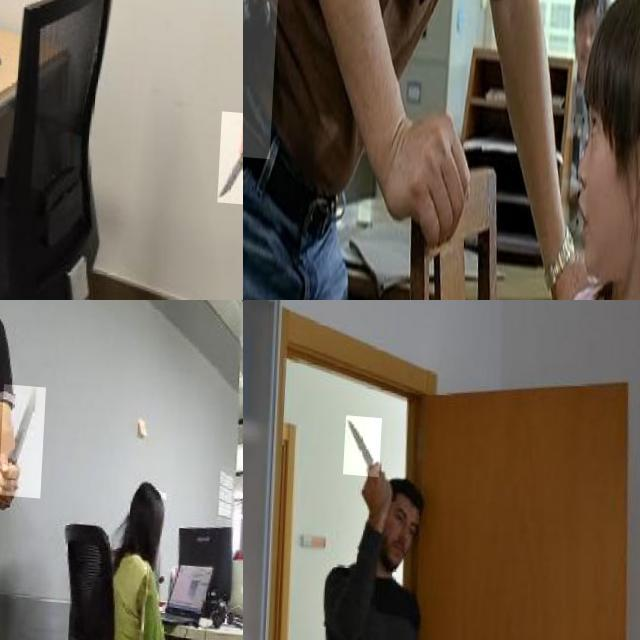-: (3, 378, 50, 492), (347, 410, 385, 471), (221, 105, 243, 199)
gun-knife-thesis - v11 Yolov5 augmented: (243, 0, 291, 157)
